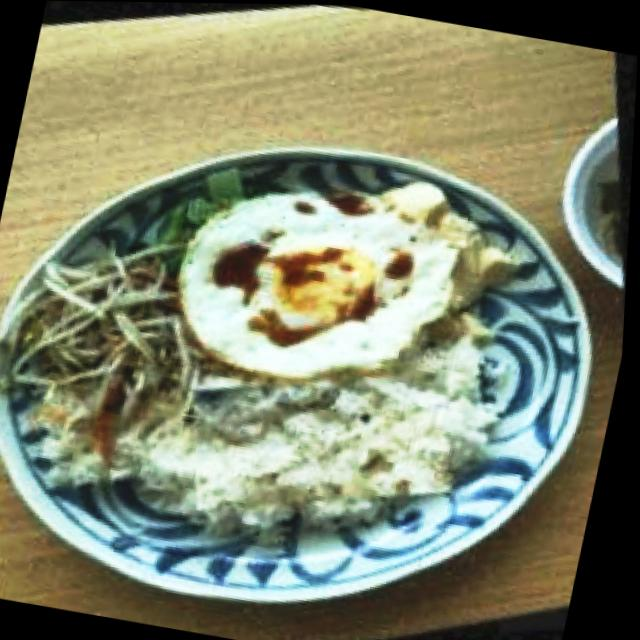fried_eggs: (162, 172, 468, 404)
mung_bean_sprouts: (0, 217, 226, 448)
rice: (112, 287, 504, 575)
